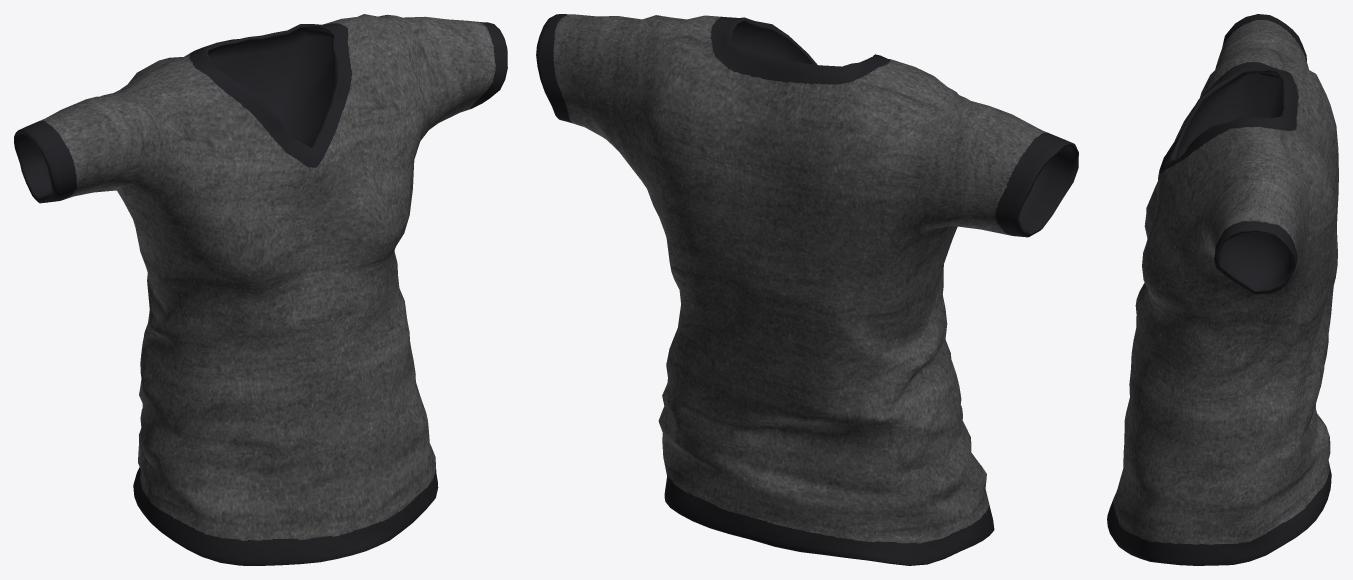
The model's file is Cha-Custom-Base-Top.glb.
3 views of the same model, side by side, from view 1: azimuth 30°, elevation 25°; view 2: azimuth 150°, elevation 25°; view 3: azimuth 270°, elevation 25° (orthographic). The views are drawn at different scales.
Visible parts, largest first — view 1: Tops; view 2: Tops; view 3: Tops.
Part boxes in pixels (x1,y1,x2,y2): Tops: (14,14,507,565); Tops: (536,14,1078,565); Tops: (1107,14,1338,565).
Size of the model in its own units: 1.42 by 1.34 by 0.6503.
Materials: 1 (1 with a texture image).
